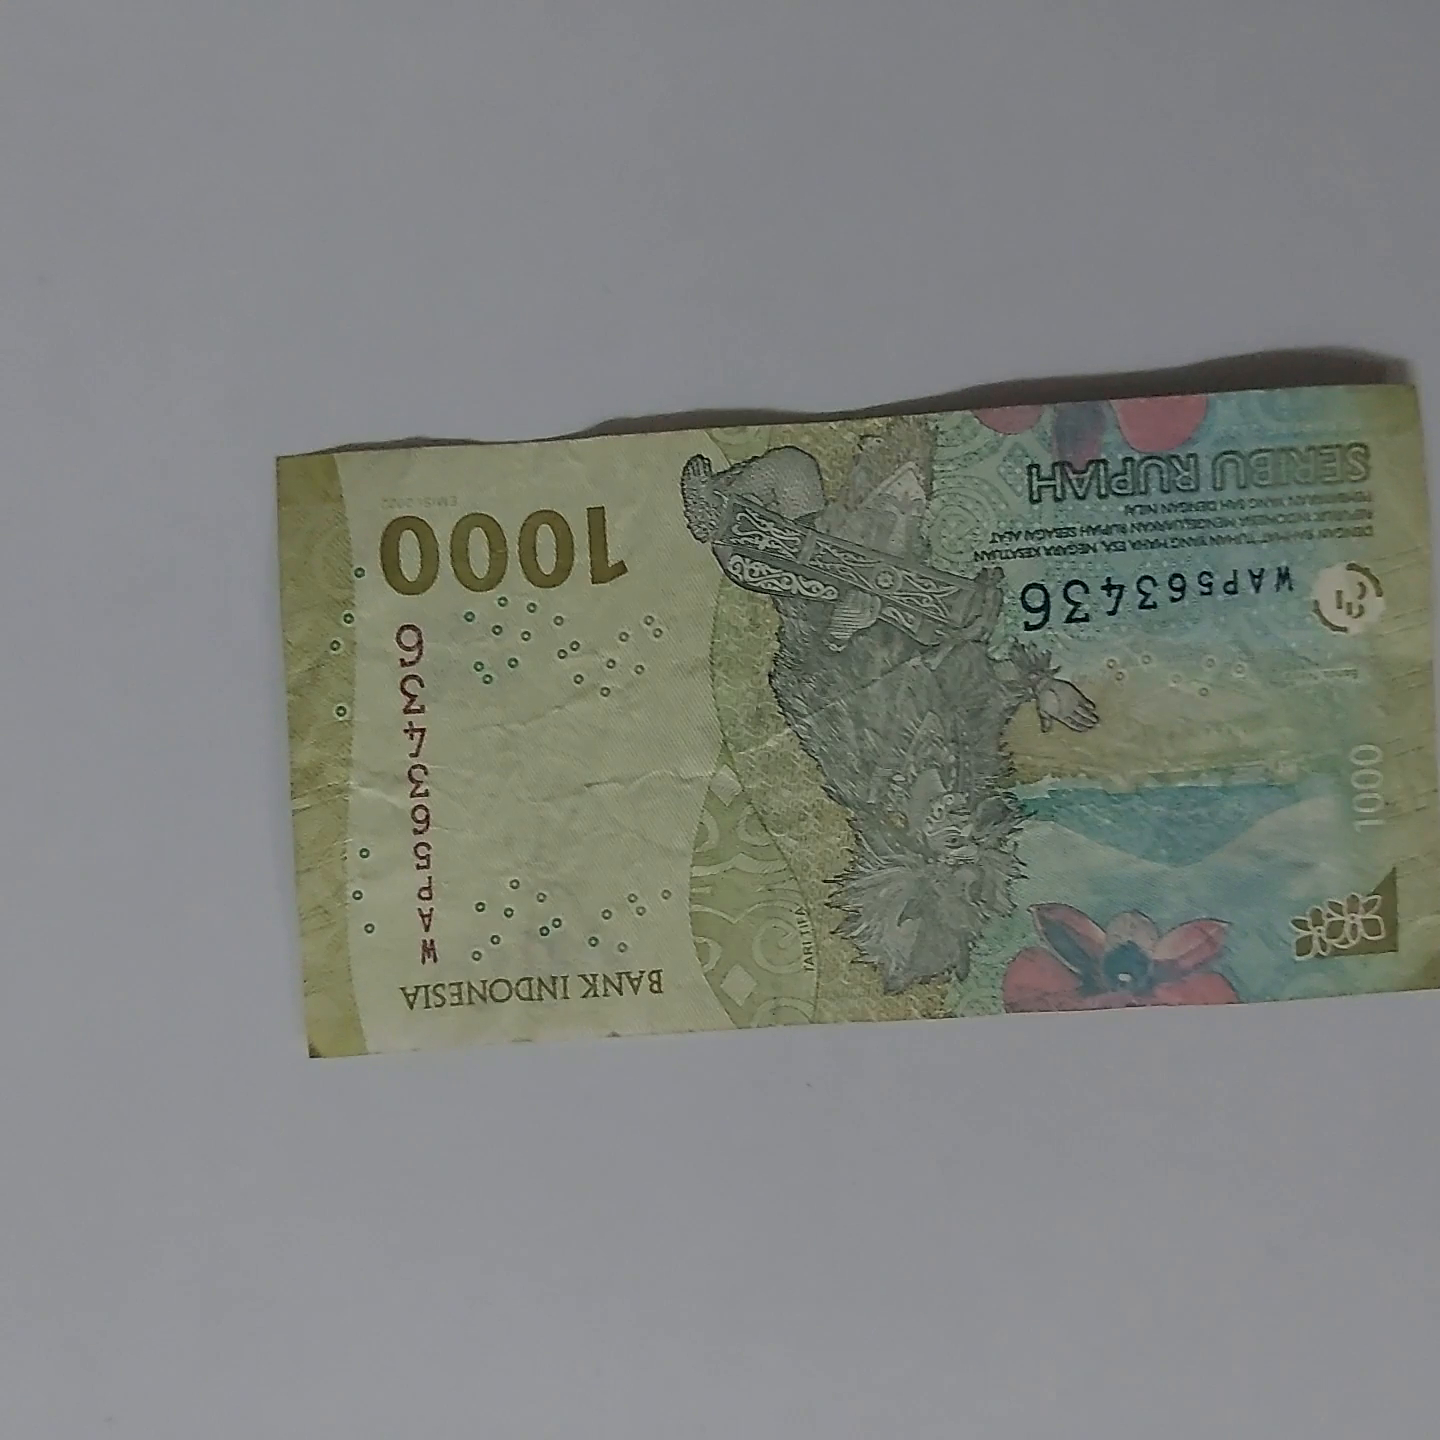1k: (248, 375, 1440, 1046)
